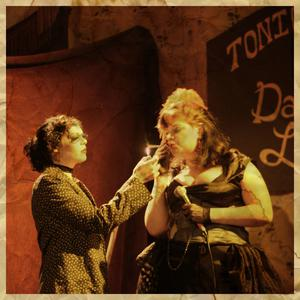cigarette: (146, 142, 168, 150)
